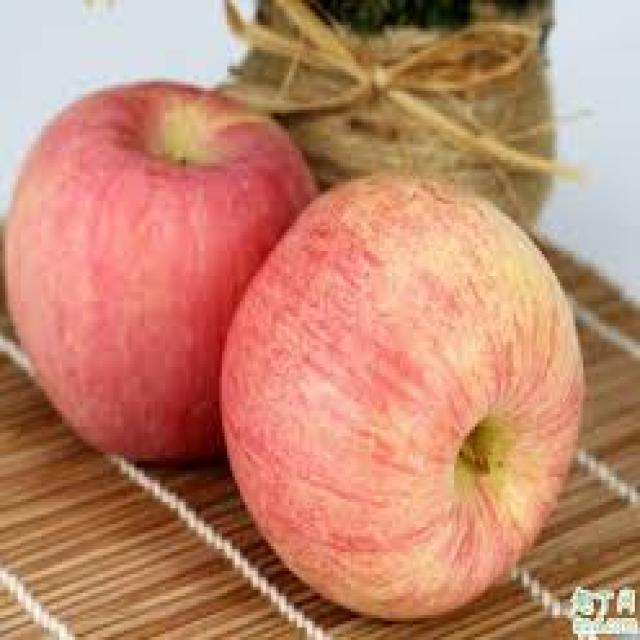organic waste: (217, 163, 580, 621), (2, 78, 318, 470)
